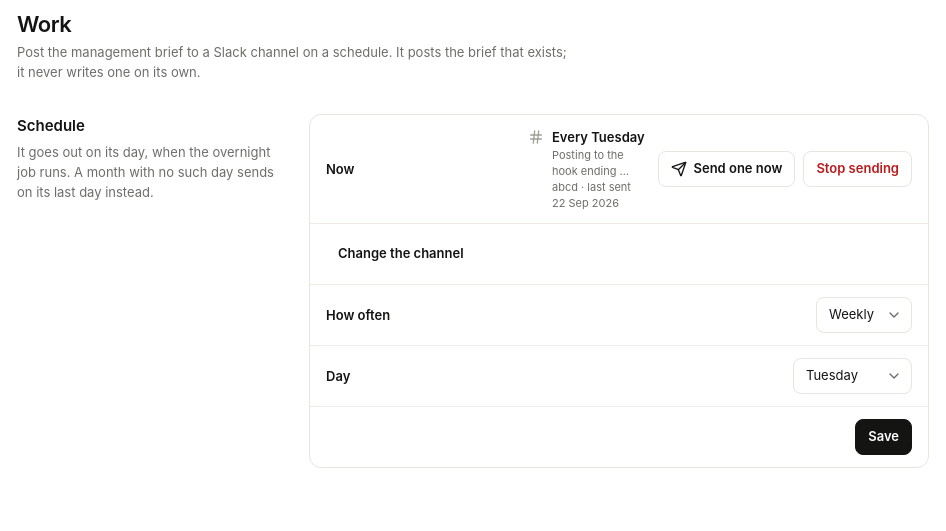
Test case: Briefs keep keyboard focus where it was › returns focus to Change the channel after a save, and keeps it on Send one now while sending
expect the text "Every Tuesday" is shown: met, box x1=552 y1=127 x2=646 y2=147
Click the button "Change the channel".
click(401, 254)  # box x1=326 y1=236 x2=476 y2=272
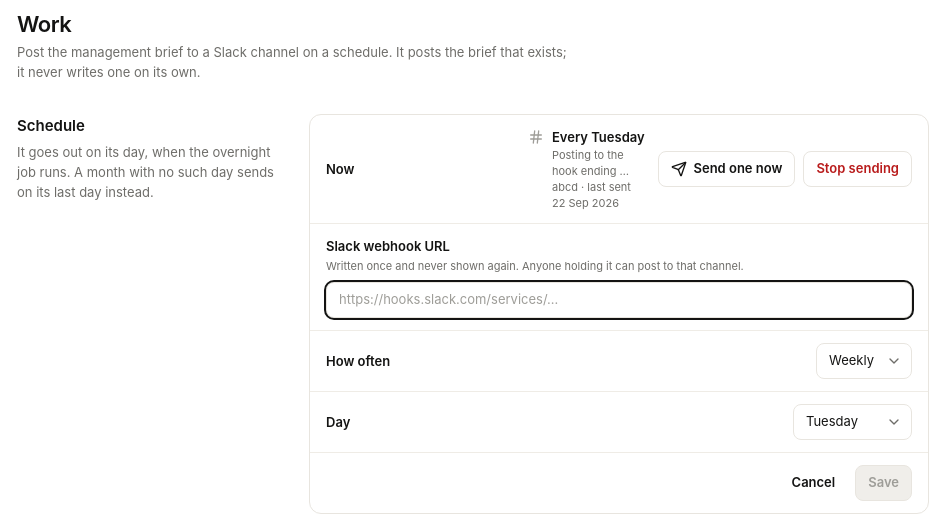
Type "https://hooks.slack.com/services/T/B/abcd" into the field labelled "Slack webhook URL".
click(619, 300); type("https://hooks.slack.com/services/T/B/abcd")  # box x1=326 y1=282 x2=912 y2=318
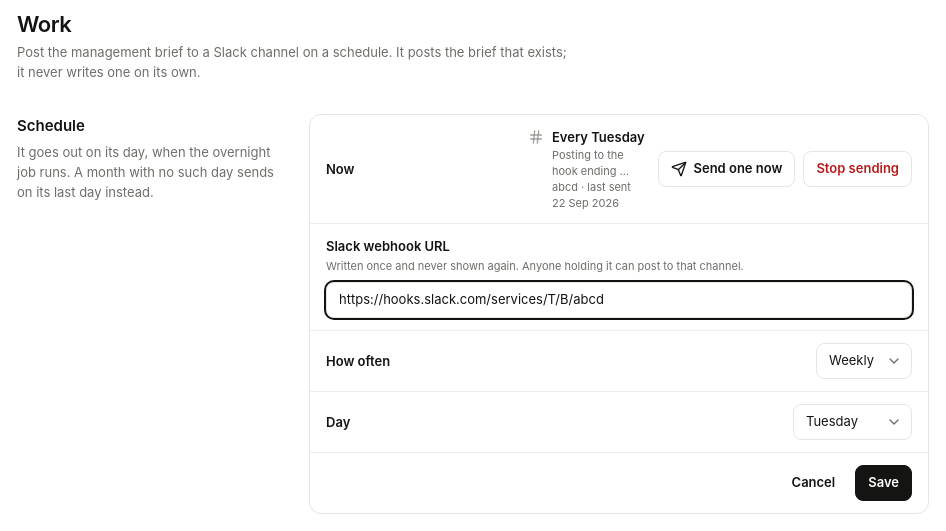
Click the button "Save".
click(884, 483)  # box x1=855 y1=465 x2=912 y2=501
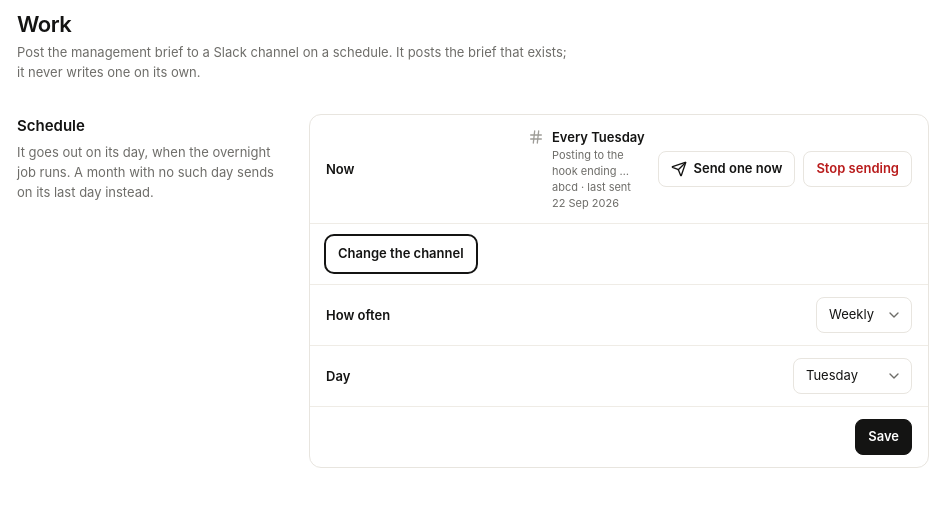
Click the button "Send one now".
click(727, 169)  # box x1=658 y1=151 x2=795 y2=187
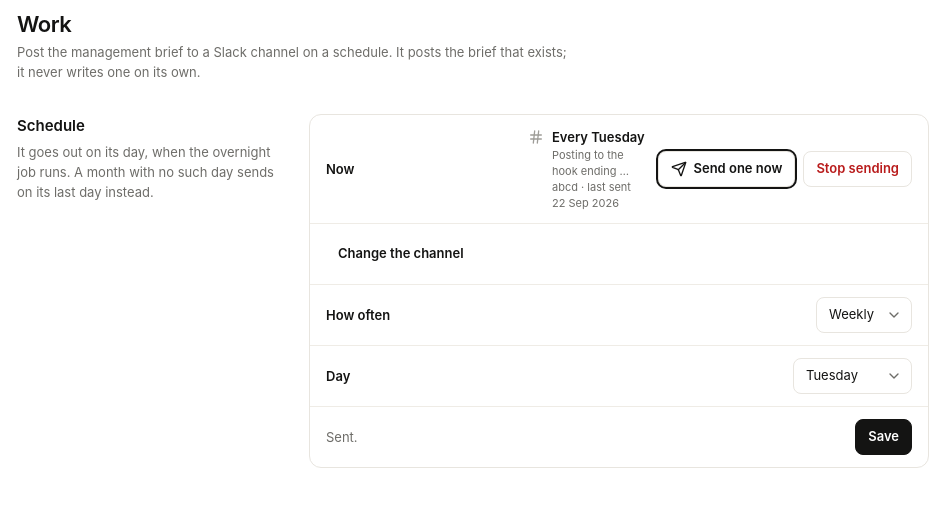
expect the text "Sent." is shown: met, box x1=326 y1=427 x2=358 y2=447
